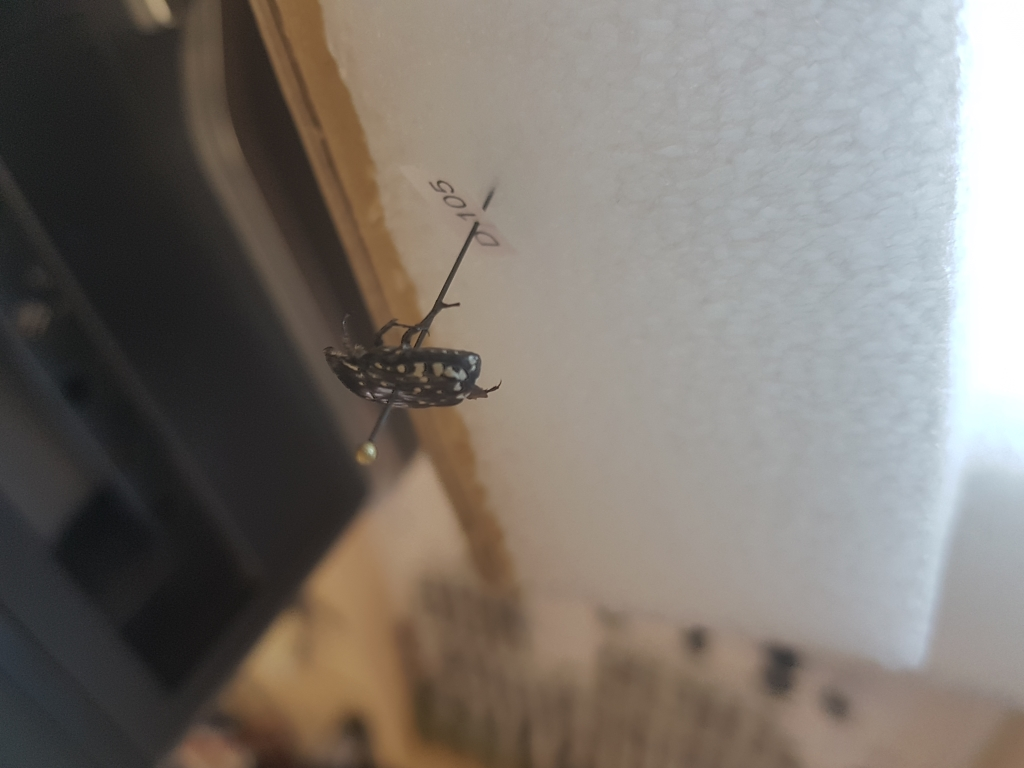Oxythyrea_cinctella: (316, 298, 503, 413)
